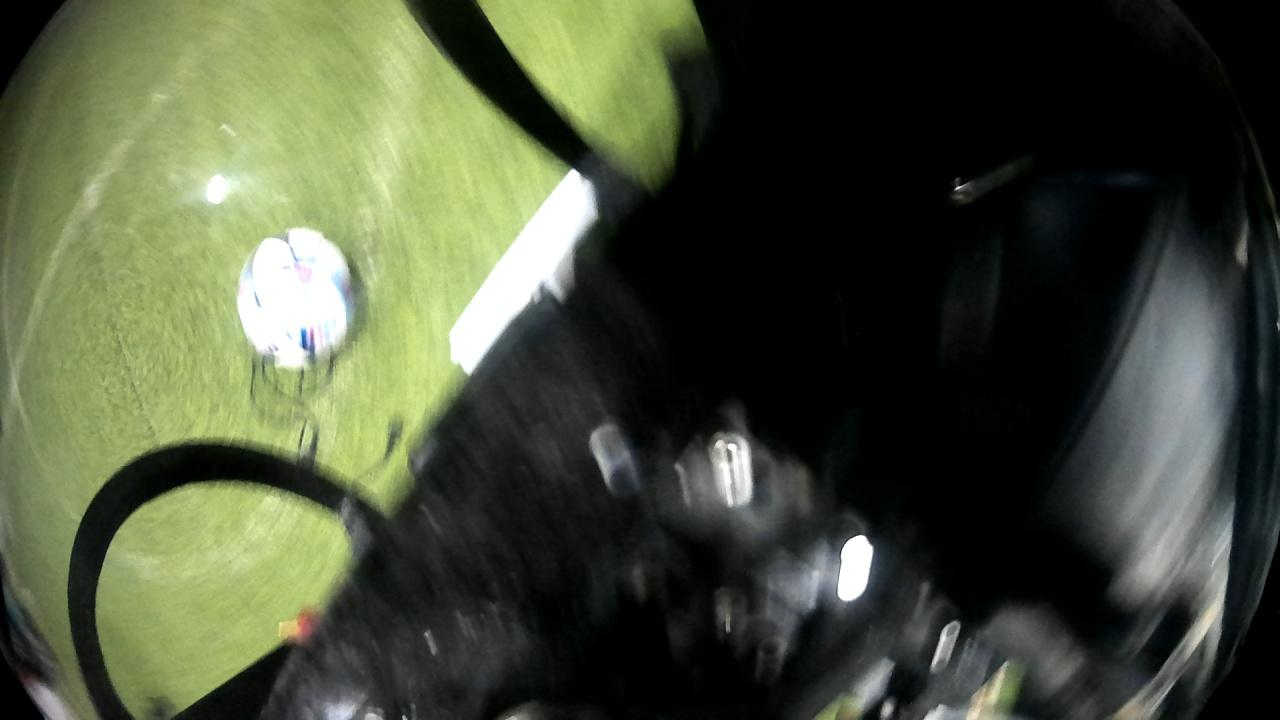ball: (226, 224, 363, 376)
